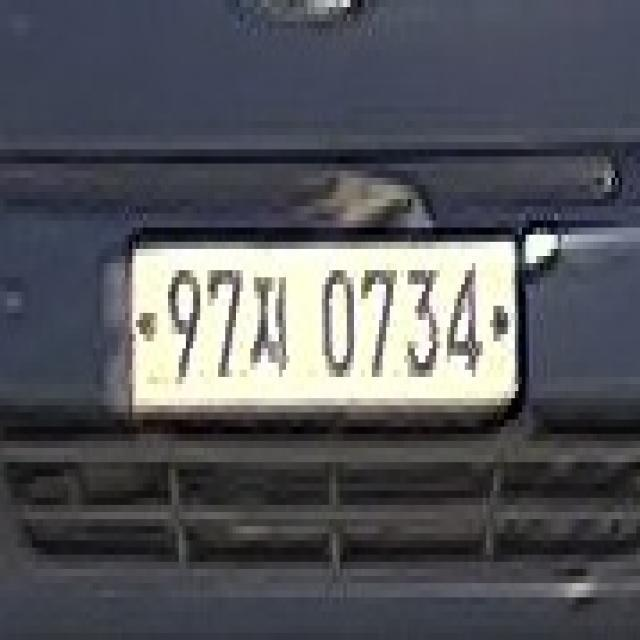0: (318, 258, 356, 388)
3: (402, 258, 440, 384)
4: (445, 258, 487, 384)
7: (358, 261, 398, 387), (207, 262, 246, 384)
9: (166, 258, 204, 385)
jeo: (249, 264, 293, 388)
license_plate: (127, 232, 526, 423)
